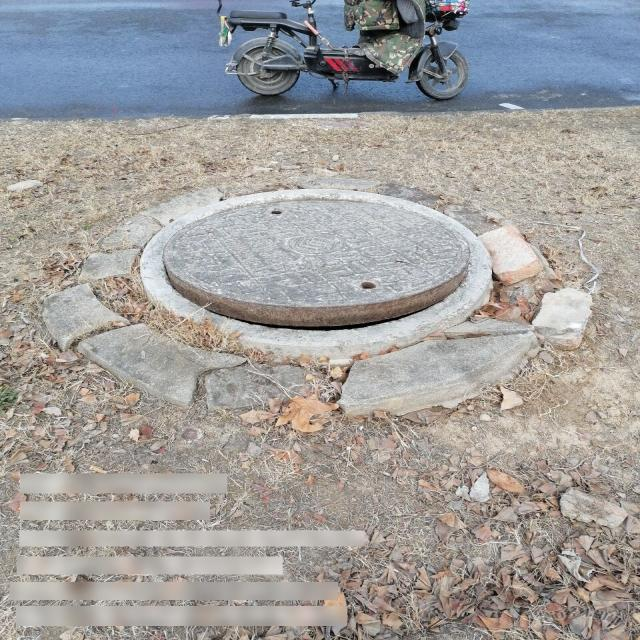Lose: (138, 185, 490, 357)
